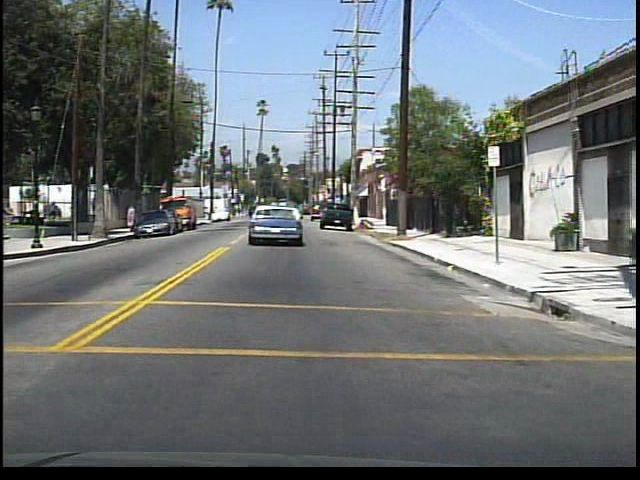person: (89, 196, 103, 223), (46, 199, 61, 222), (127, 201, 137, 230)
